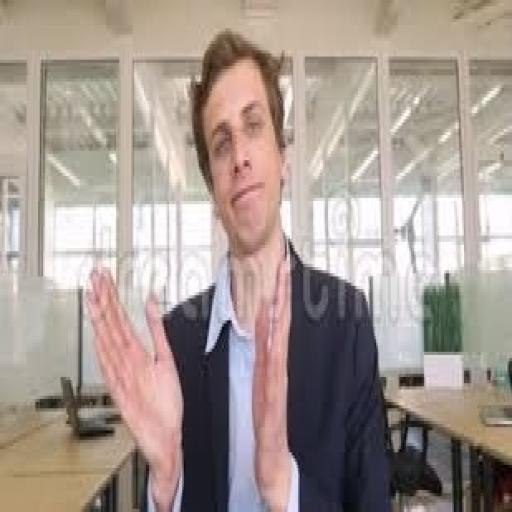clapping: (83, 28, 393, 509)
